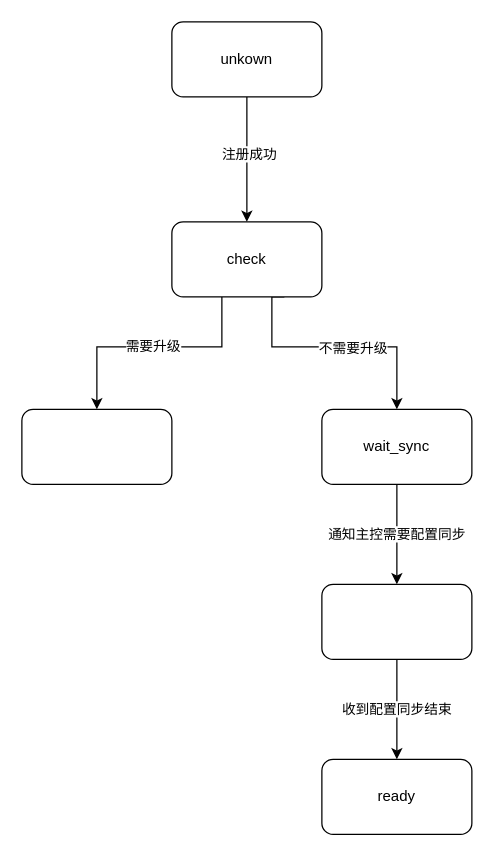
Some shapes in this 494 by 856 pixel diagram are drawn without their labels. The shapes that lost their labels are listed below. From the top down, each one's centre as x and y in pixels, then its label:
At point 96,446: "upgrade".
At point 396,621: "syncing".
